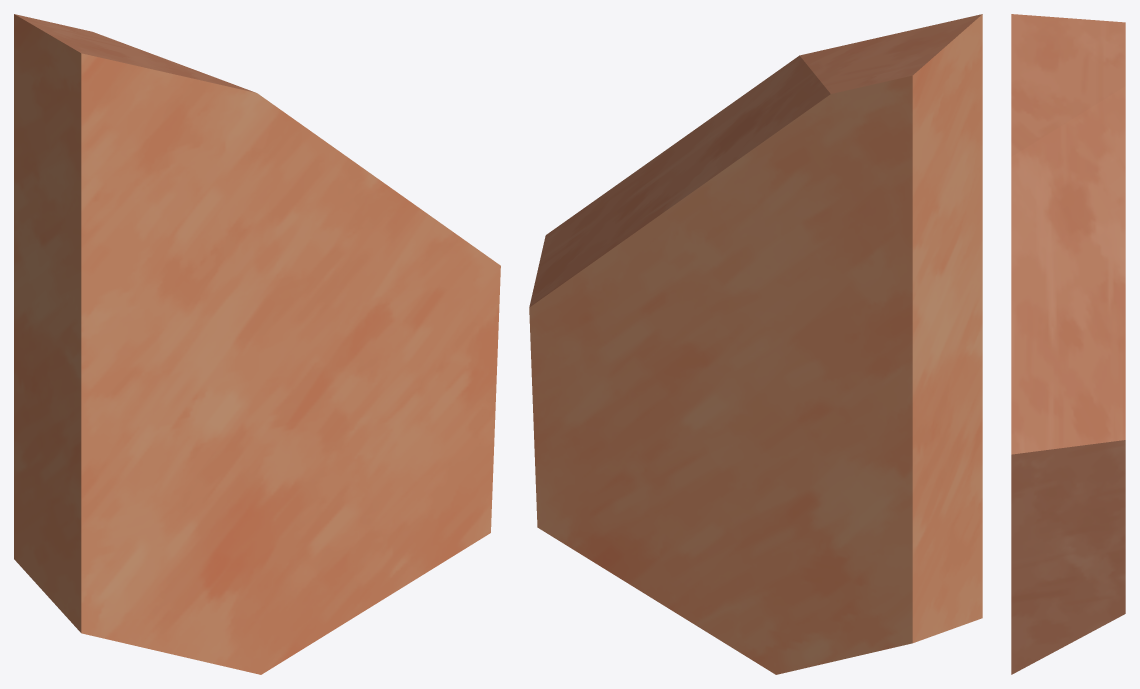
The model's file is wall2_upper_s01.fbx.
The picture shows the model from 3 angles, left to right: view 1: azimuth 30°, elevation 25°; view 2: azimuth 150°, elevation 25°; view 3: azimuth 270°, elevation 25°; orthographic projection. The views are drawn at different scales.
Visible parts, largest first — view 1: wall2_upper_s01; view 2: wall2_upper_s01; view 3: wall2_upper_s01.
Boxes of the visible parts, left/top/right/bottom form: wall2_upper_s01: left=14, top=14, right=500, bottom=674; wall2_upper_s01: left=529, top=14, right=982, bottom=674; wall2_upper_s01: left=1011, top=14, right=1125, bottom=674.
Size of the model in its own units: 3.6 by 5.46 by 1.
